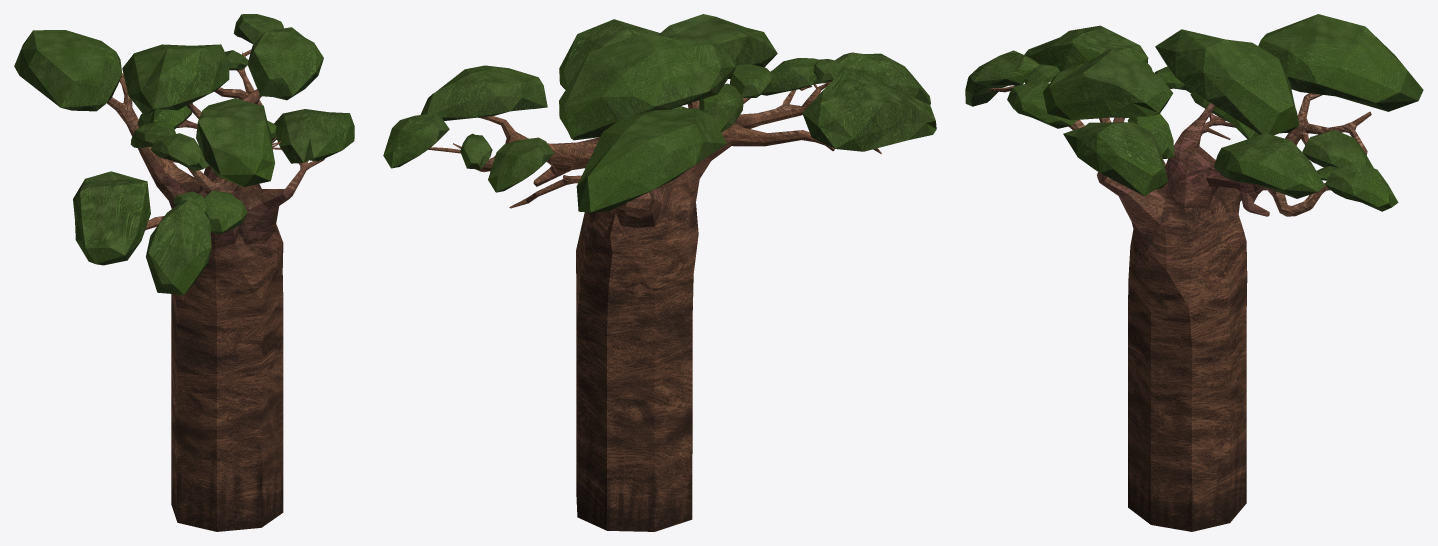
Rendered from baobab.glb.
3 views of the same model, side by side, from view 1: azimuth 30°, elevation 25°; view 2: azimuth 150°, elevation 25°; view 3: azimuth 270°, elevation 25° (orthographic). The views are drawn at different scales.
Bounding box in the file's own units: 2.15 × 2.65 × 2.44.
2 materials, 2 textured.
